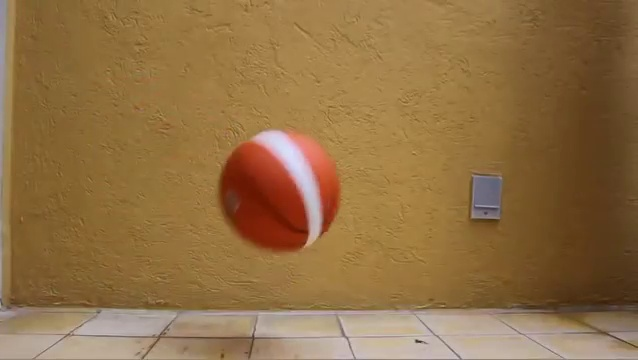ball: (219, 128, 341, 251)
